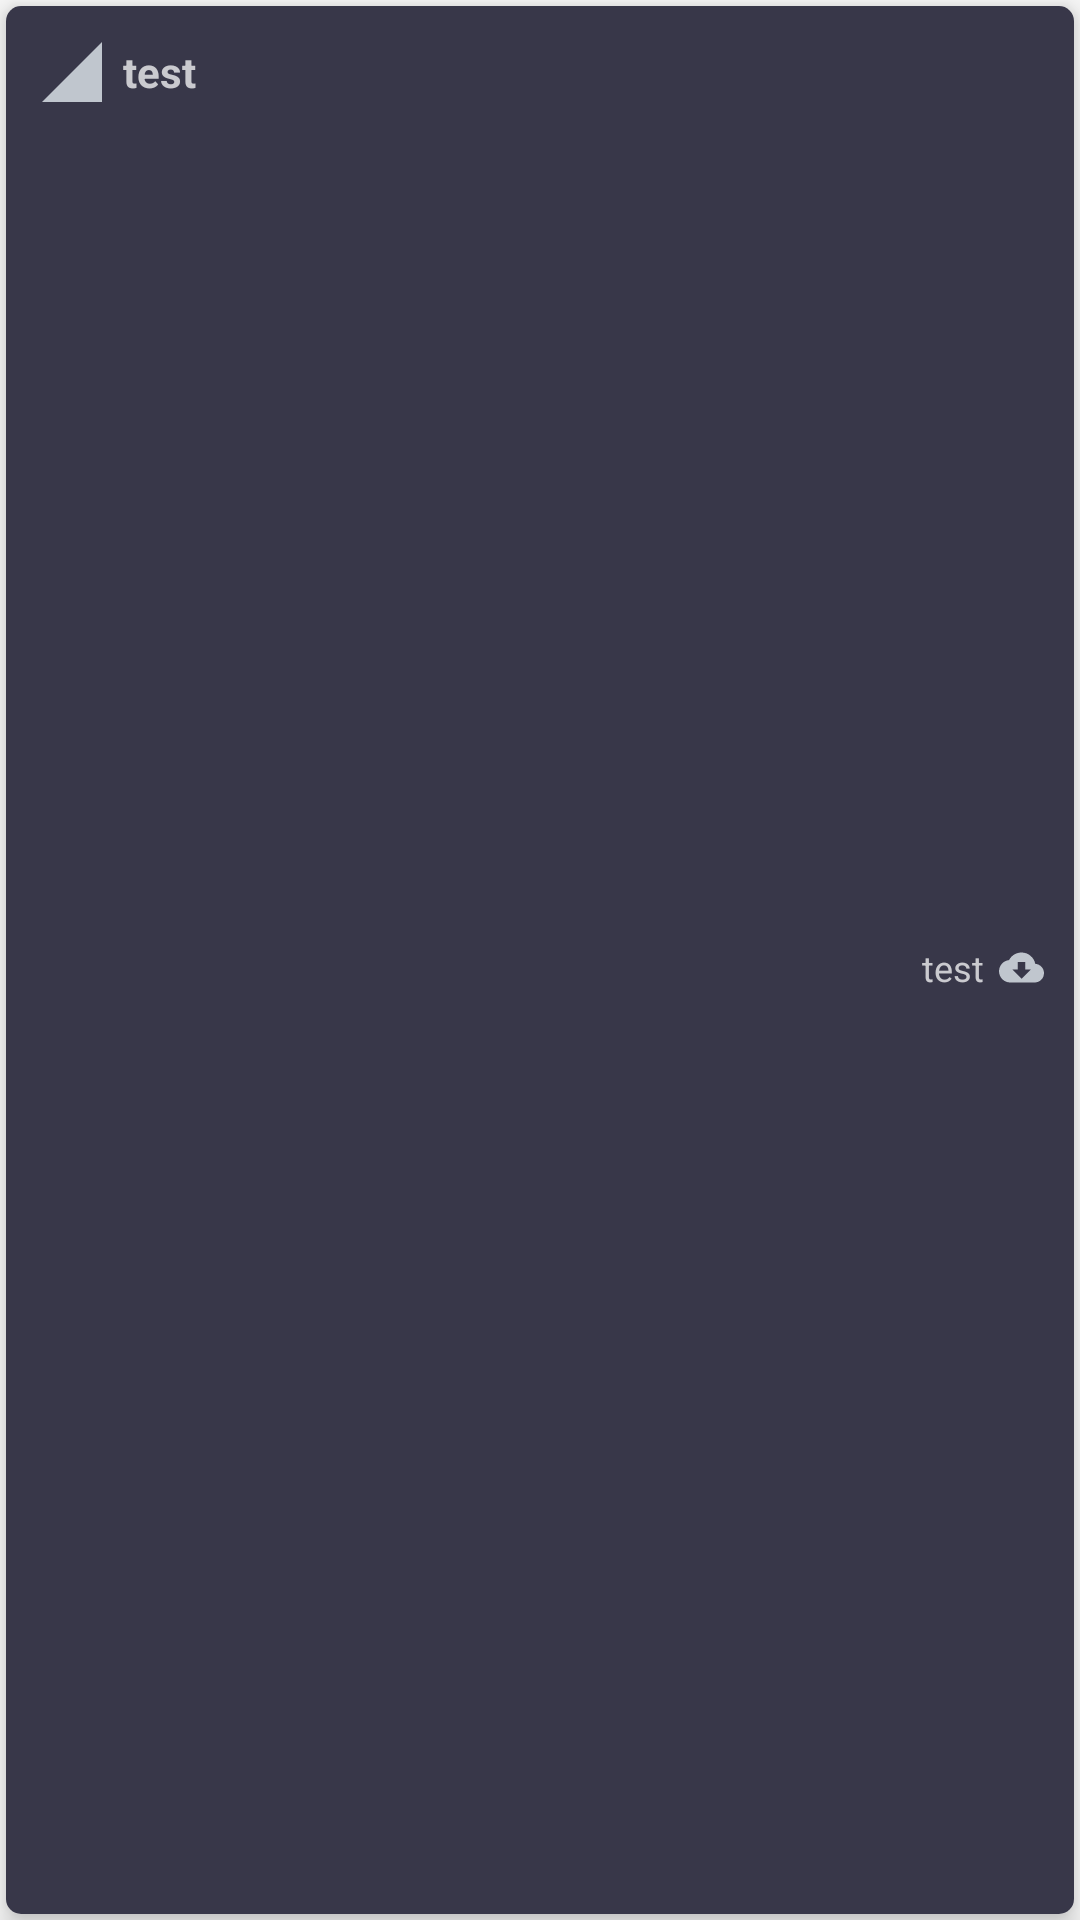

Icon bounding boxes for this 1080w x 1920h phone screenshot, format (x1, y1, x2, y2):
indirme: (999, 952, 1044, 983)
